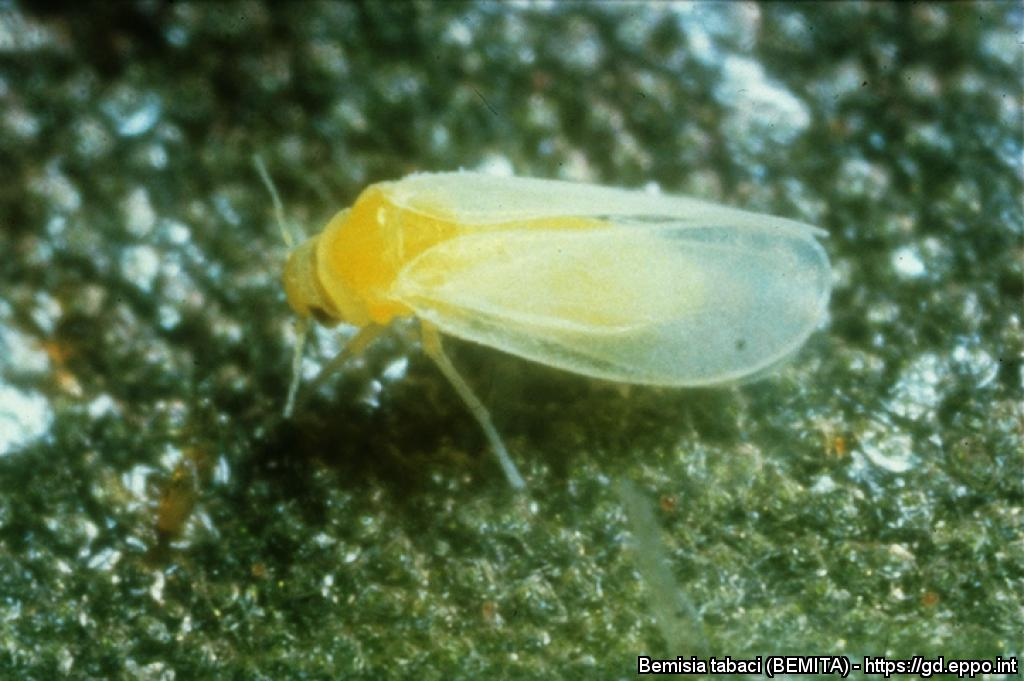Tobacco Whitefly: (250, 138, 856, 508), (860, 492, 861, 499)
